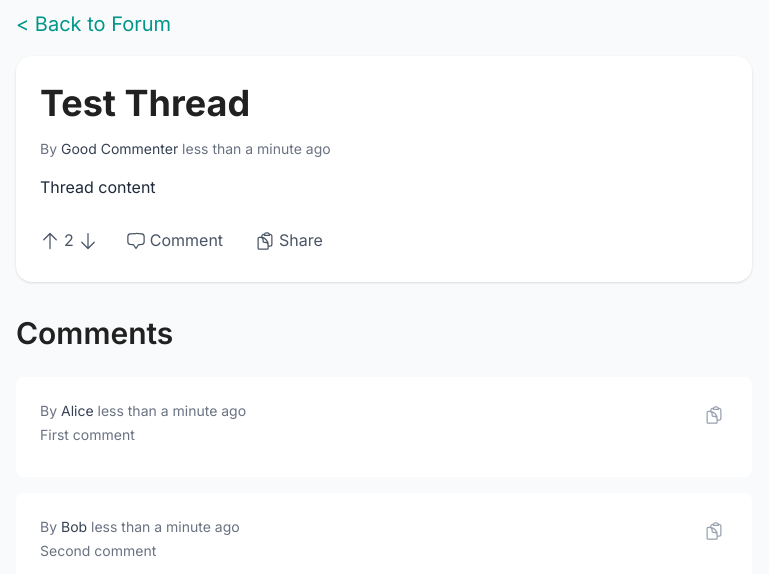
Test: ThreadDetail: Voting test cases (Integration) › upvotes a thread
Expected: the heading "Test Thread" is shown, [40,81,250,125]
Click the button named "Upvote" at [57, 241], box [40,228,74,254]
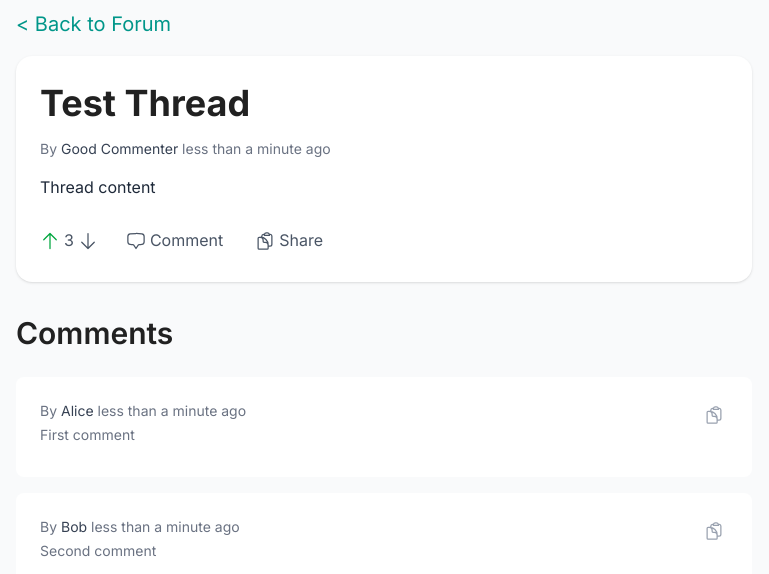
Now the text "3" is shown, box [64,228,74,254]
